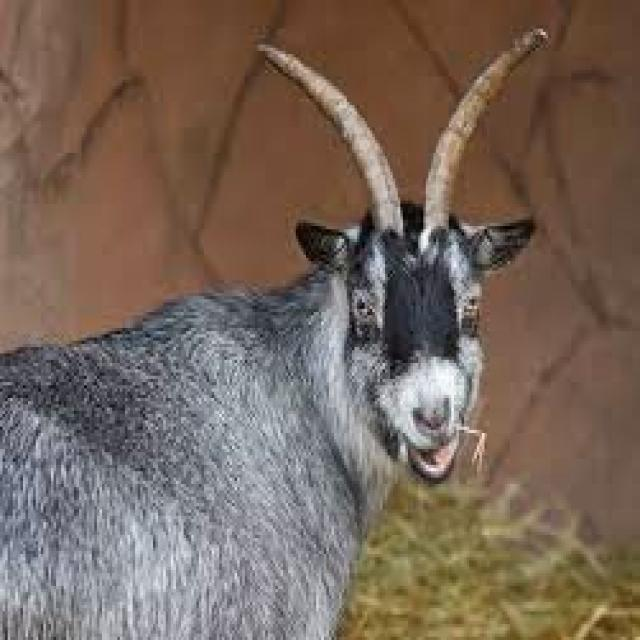goat: (0, 29, 546, 637)
